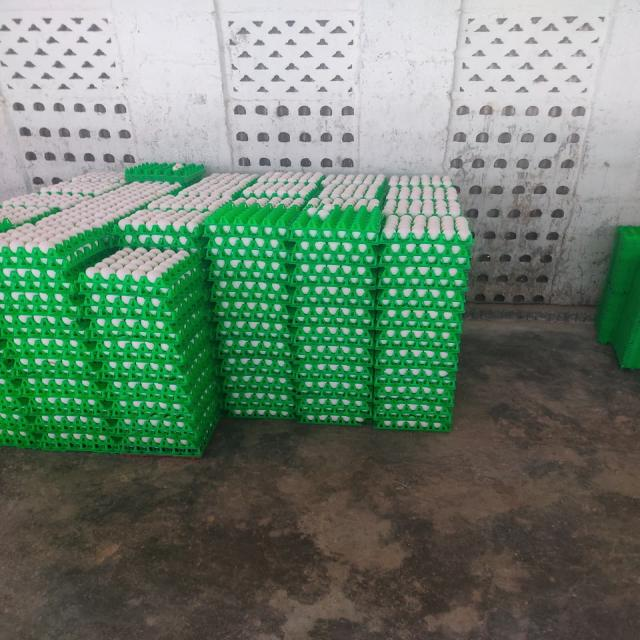egg_tray: (0, 184, 168, 370), (373, 176, 471, 430), (207, 196, 299, 417), (207, 202, 297, 417), (292, 206, 378, 424), (0, 182, 175, 264), (84, 248, 207, 360), (97, 340, 221, 440), (91, 293, 215, 390), (0, 239, 111, 342), (119, 174, 256, 248), (291, 209, 377, 325), (87, 278, 209, 358), (38, 403, 219, 455), (377, 214, 471, 313), (293, 308, 372, 423), (214, 304, 293, 416), (290, 206, 379, 305), (0, 230, 110, 310), (32, 409, 218, 456), (86, 275, 209, 342), (0, 358, 103, 438), (101, 366, 221, 434), (81, 247, 203, 312), (0, 292, 91, 375), (374, 344, 457, 428), (213, 273, 291, 362), (0, 172, 123, 226), (85, 292, 210, 344), (103, 378, 219, 434), (94, 326, 214, 380), (112, 381, 219, 441), (375, 330, 459, 406), (376, 322, 459, 398), (0, 371, 103, 432), (595, 226, 639, 368), (376, 264, 467, 332), (205, 201, 299, 265), (291, 254, 374, 326), (375, 303, 463, 370), (208, 234, 289, 306), (85, 296, 209, 343), (207, 176, 304, 236), (0, 246, 89, 311), (237, 174, 384, 213), (289, 242, 375, 308), (119, 196, 230, 247), (295, 352, 372, 424), (293, 306, 373, 374), (85, 247, 196, 295), (207, 200, 300, 256), (291, 207, 379, 266), (0, 277, 82, 338), (0, 209, 86, 267), (221, 348, 294, 416), (375, 309, 461, 366), (121, 406, 219, 456), (380, 214, 472, 267), (97, 340, 213, 382), (0, 407, 113, 450), (103, 362, 217, 404), (95, 325, 213, 365), (83, 182, 177, 232), (212, 286, 290, 346), (293, 306, 373, 364), (293, 307, 373, 364), (292, 306, 373, 362), (290, 264, 375, 316), (0, 390, 103, 432), (205, 218, 288, 270), (0, 290, 82, 342), (0, 408, 106, 448), (374, 366, 455, 418), (213, 298, 291, 350), (297, 363, 372, 416), (205, 201, 273, 257), (374, 366, 455, 412), (15, 376, 108, 416), (3, 318, 91, 360), (120, 418, 217, 456), (234, 172, 323, 212), (169, 173, 258, 212), (0, 193, 91, 228), (291, 206, 379, 242), (235, 172, 323, 208), (23, 386, 111, 422), (308, 174, 385, 215), (0, 280, 80, 319), (375, 365, 455, 404), (12, 342, 94, 380), (383, 176, 459, 216), (36, 416, 119, 452), (294, 341, 373, 378), (208, 256, 289, 292), (41, 172, 125, 206), (137, 188, 233, 216), (373, 398, 451, 432), (383, 214, 470, 244), (224, 384, 294, 418), (295, 362, 374, 392), (297, 394, 371, 426), (376, 378, 454, 408), (376, 286, 464, 312), (373, 402, 451, 431), (223, 387, 295, 418), (383, 186, 459, 215), (289, 283, 375, 308), (297, 397, 371, 426), (378, 264, 467, 288), (242, 172, 323, 198), (179, 172, 259, 198), (217, 332, 291, 360), (290, 262, 376, 286), (212, 298, 291, 324), (12, 355, 94, 380), (375, 328, 459, 352), (298, 375, 371, 402), (375, 346, 457, 370), (40, 172, 125, 195), (33, 432, 129, 452), (125, 162, 205, 186), (12, 375, 95, 398), (375, 308, 461, 330), (291, 305, 374, 327), (293, 325, 373, 347), (220, 356, 293, 380), (213, 318, 291, 340), (319, 174, 386, 199), (294, 344, 373, 365), (305, 198, 379, 220), (224, 372, 295, 394), (306, 198, 379, 219), (0, 411, 41, 448), (382, 199, 460, 216), (234, 194, 307, 208), (388, 174, 452, 188), (69, 171, 125, 184), (317, 252, 342, 273), (56, 216, 72, 232), (258, 172, 289, 180), (149, 200, 168, 210), (0, 230, 13, 244), (214, 274, 227, 287), (129, 216, 152, 222), (392, 330, 407, 339), (212, 273, 221, 286), (67, 420, 81, 428), (249, 310, 267, 316), (278, 224, 288, 234), (409, 332, 425, 338), (410, 330, 425, 336), (239, 303, 254, 309), (159, 222, 170, 230), (117, 306, 130, 312), (394, 330, 407, 336), (321, 365, 332, 372), (251, 271, 266, 276), (269, 263, 283, 268), (58, 424, 69, 430), (43, 185, 55, 190), (182, 419, 192, 424), (286, 216, 294, 222), (314, 241, 330, 244), (333, 298, 341, 304), (58, 206, 69, 210), (418, 414, 429, 418), (268, 182, 279, 186), (316, 403, 323, 409), (0, 234, 5, 242), (9, 278, 15, 284), (197, 284, 203, 290), (330, 417, 342, 420), (263, 253, 273, 256), (33, 362, 36, 372), (318, 414, 323, 420), (255, 396, 270, 398), (259, 303, 265, 308), (6, 231, 10, 238), (407, 338, 413, 342), (378, 332, 381, 340), (319, 346, 325, 350), (345, 263, 352, 266), (133, 224, 140, 227), (111, 298, 116, 302), (102, 198, 107, 202), (19, 296, 23, 301), (47, 424, 52, 428), (84, 446, 93, 448), (323, 402, 326, 408), (216, 240, 220, 244), (385, 334, 389, 338), (135, 388, 139, 392), (377, 386, 379, 394), (407, 338, 411, 342), (417, 392, 421, 396), (205, 352, 209, 356), (251, 358, 259, 360), (321, 322, 325, 326), (262, 359, 267, 362), (401, 398, 408, 400), (377, 209, 379, 216), (305, 375, 312, 377), (262, 230, 265, 234), (392, 300, 395, 304), (96, 427, 99, 431), (89, 370, 92, 374), (13, 306, 17, 309), (440, 414, 444, 417), (355, 254, 359, 257), (147, 227, 151, 230), (350, 332, 354, 335), (252, 263, 256, 266), (330, 345, 334, 348), (52, 272, 57, 274), (185, 336, 187, 341), (91, 386, 94, 389), (282, 271, 285, 274), (276, 212, 279, 215), (125, 298, 128, 301), (49, 243, 52, 246), (425, 318, 429, 320), (234, 278, 238, 280), (223, 268, 227, 270), (55, 214, 59, 216), (239, 358, 246, 359), (20, 444, 23, 446), (91, 198, 93, 201), (339, 255, 341, 258), (302, 402, 304, 405), (136, 296, 139, 298), (274, 222, 277, 224), (92, 300, 95, 302), (11, 239, 13, 242), (301, 241, 303, 244), (181, 224, 184, 226), (17, 270, 22, 271), (21, 444, 23, 446), (89, 227, 91, 229), (283, 220, 285, 222), (305, 264, 307, 266), (424, 176, 426, 178), (119, 390, 121, 392), (25, 420, 27, 422), (323, 380, 325, 382), (356, 347, 360, 348), (266, 233, 269, 234), (42, 376, 45, 377), (74, 207, 77, 208), (291, 174, 294, 175), (245, 190, 247, 191), (89, 382, 91, 383), (353, 318, 355, 319), (338, 250, 339, 252), (34, 308, 35, 310), (189, 229, 191, 230), (371, 304, 372, 306), (60, 378, 61, 379), (320, 322, 321, 323), (135, 452, 137, 452), (236, 201, 237, 201), (240, 354, 242, 354), (349, 199, 352, 199), (222, 243, 224, 243), (59, 183, 61, 183), (425, 341, 425, 341), (203, 310, 203, 312), (59, 339, 61, 339), (229, 343, 230, 343), (379, 332, 379, 336), (194, 199, 195, 199), (265, 263, 265, 264), (169, 370, 169, 370), (102, 416, 103, 416), (25, 368, 26, 368), (128, 292, 131, 292), (259, 212, 268, 212), (263, 208, 264, 208), (324, 276, 328, 276), (167, 392, 167, 397), (56, 241, 57, 241), (89, 423, 91, 423), (307, 416, 309, 416), (263, 414, 269, 414), (318, 368, 319, 368), (354, 283, 355, 283), (310, 208, 312, 208), (365, 249, 365, 250), (371, 248, 372, 248), (367, 314, 368, 314), (303, 310, 303, 310), (169, 230, 170, 230), (234, 279, 237, 279), (349, 370, 350, 370), (39, 425, 39, 427)
